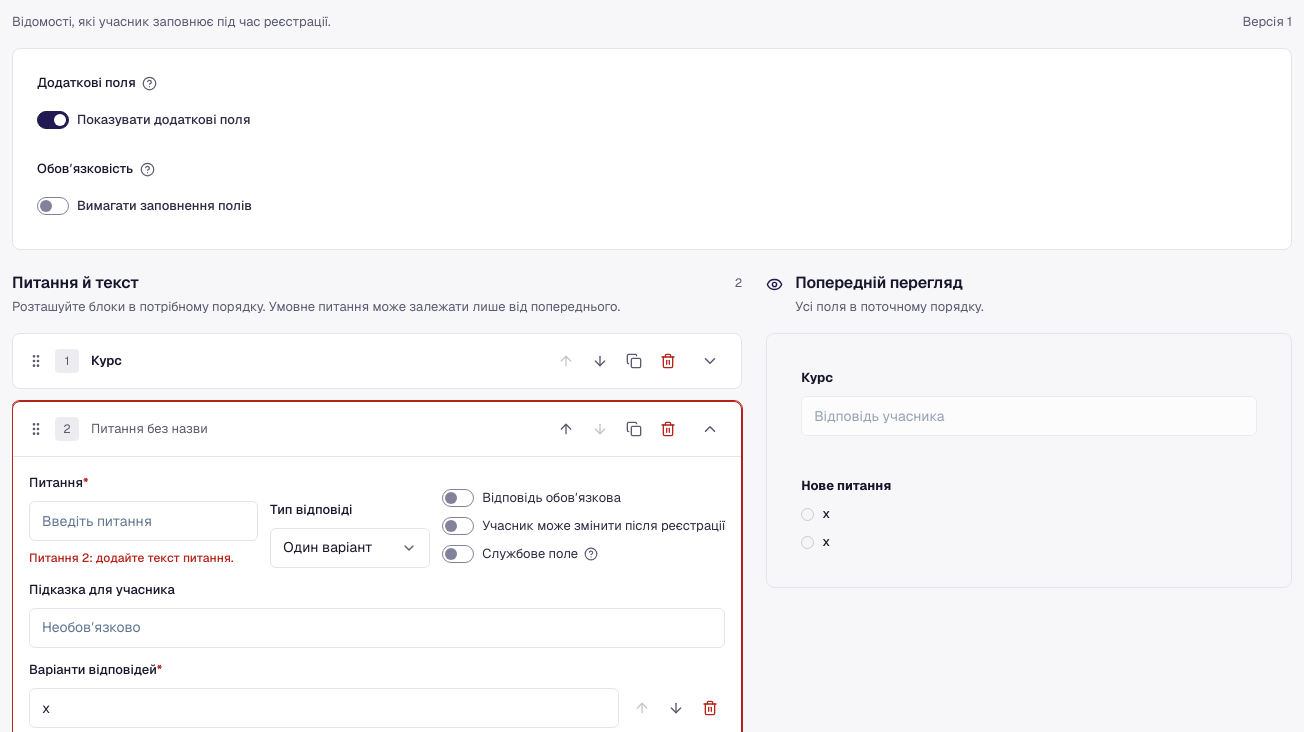
Scenario: invalid cards › open once on a new error and keep the red outline when closed
Check: the message reads "Питання 2: додайте текст питання.", box [29,550,234,566]
Click the button named "Згорнути блок".
click(710, 429)  # box [695,414,725,444]
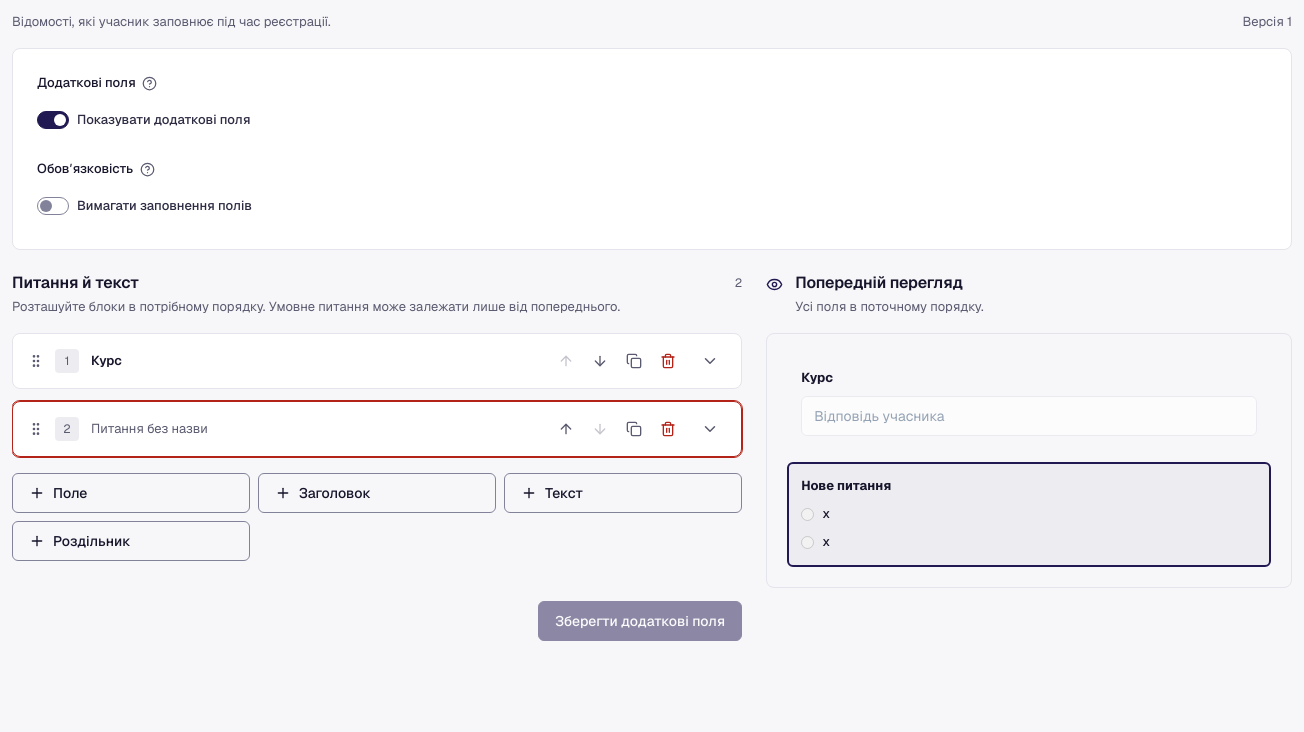
Check: the 2nd button named "Розгорнути блок" is collapsed
Check: the text "Питання 2: додайте текст питання." is gone
Click the 2nd button named "Розгорнути блок".
click(710, 429)  # box [695,414,725,444]
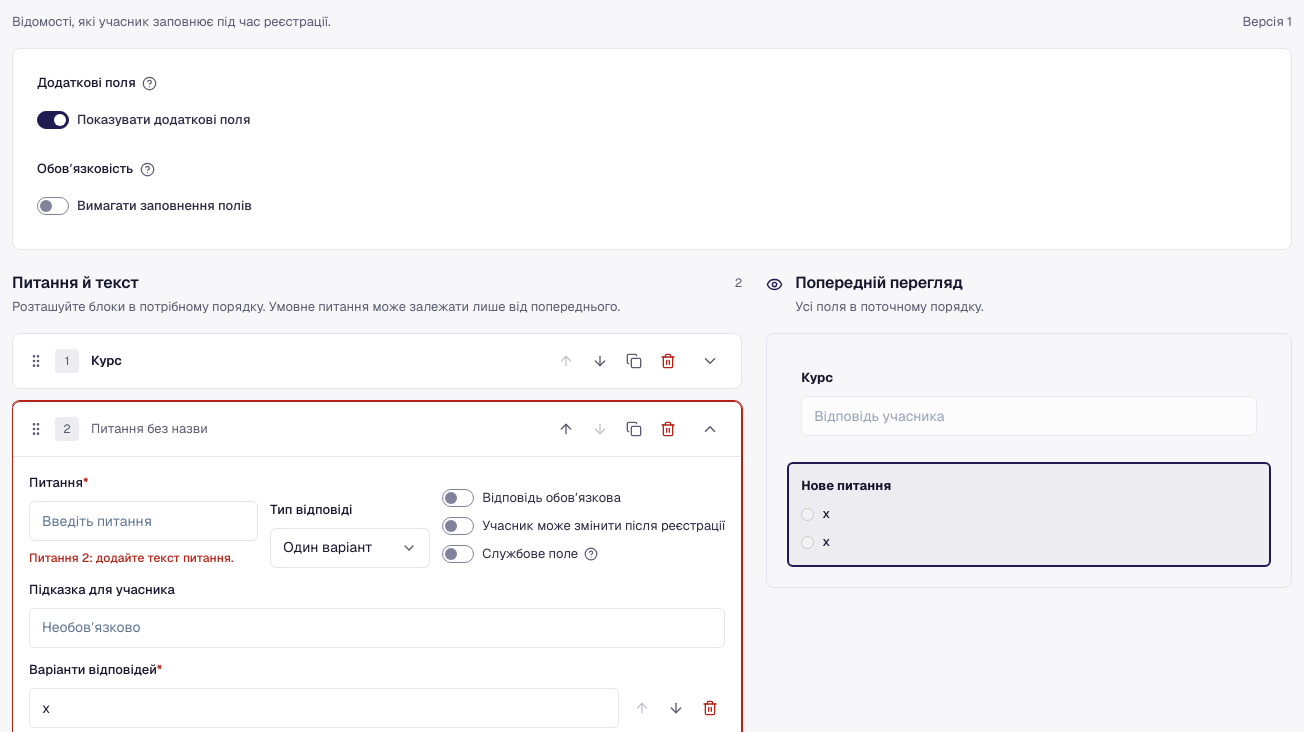
Check: the message "Питання 2: додайте текст питання." is shown, box [29,549,258,568]
